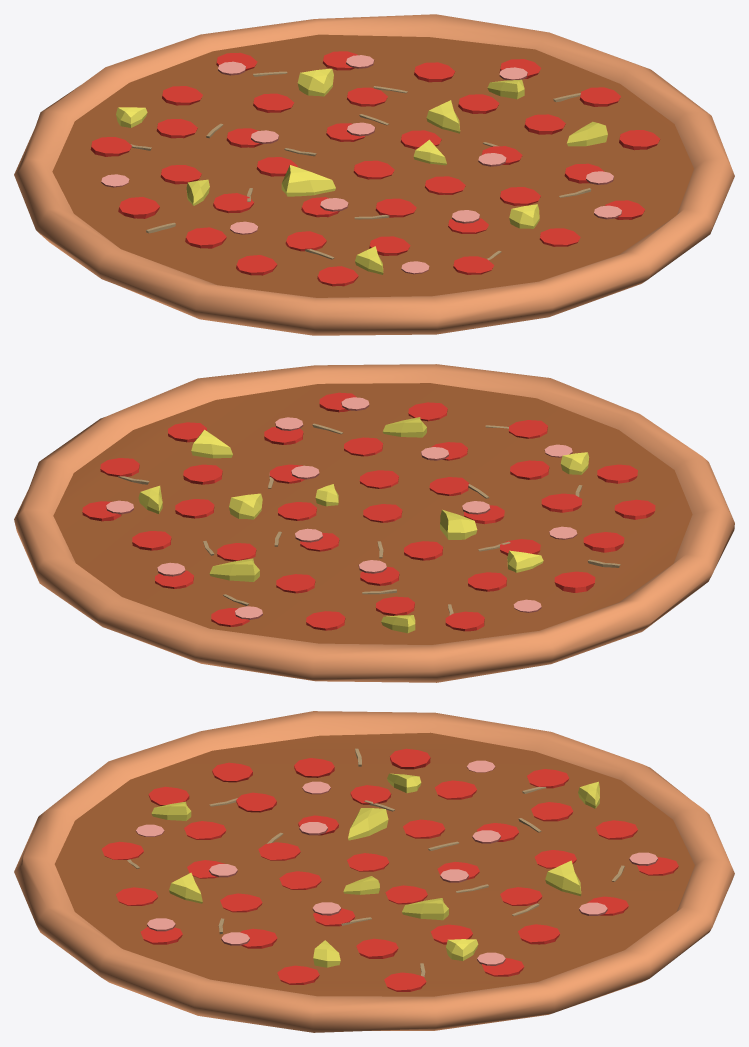
The model's file is Hawai.fbx.
3 renders of one model, top to bottom at view 1: azimuth 30°, elevation 25°; view 2: azimuth 150°, elevation 25°; view 3: azimuth 270°, elevation 25°, orthographic.
Visible parts, largest first — view 1: Cube.006; view 2: Cube.006; view 3: Cube.006.
Part boxes in pixels (bbox=[...]): Cube.006: bbox=[14, 14, 734, 335]; Cube.006: bbox=[14, 364, 734, 682]; Cube.006: bbox=[14, 711, 734, 1032].
Size of the model in its own units: 199 by 12.87 by 202.
